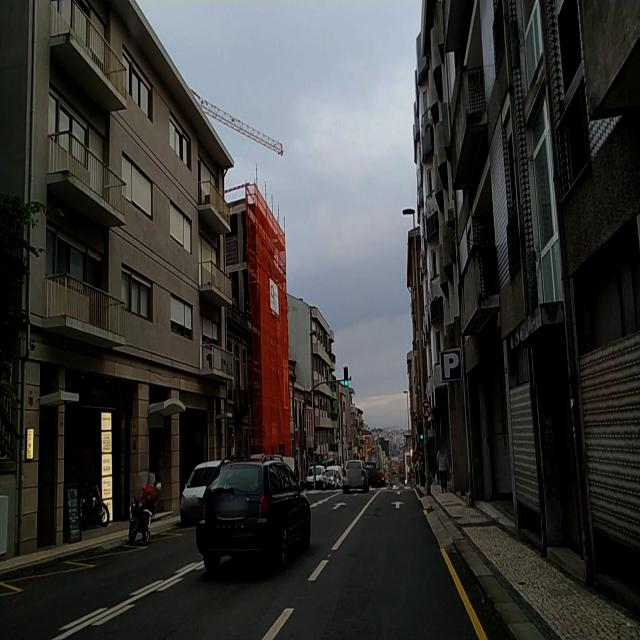bike: (79, 480, 109, 528), (128, 493, 154, 545)
car: (196, 454, 312, 574), (180, 459, 223, 527), (343, 459, 369, 493), (306, 464, 326, 490), (328, 465, 342, 487)
